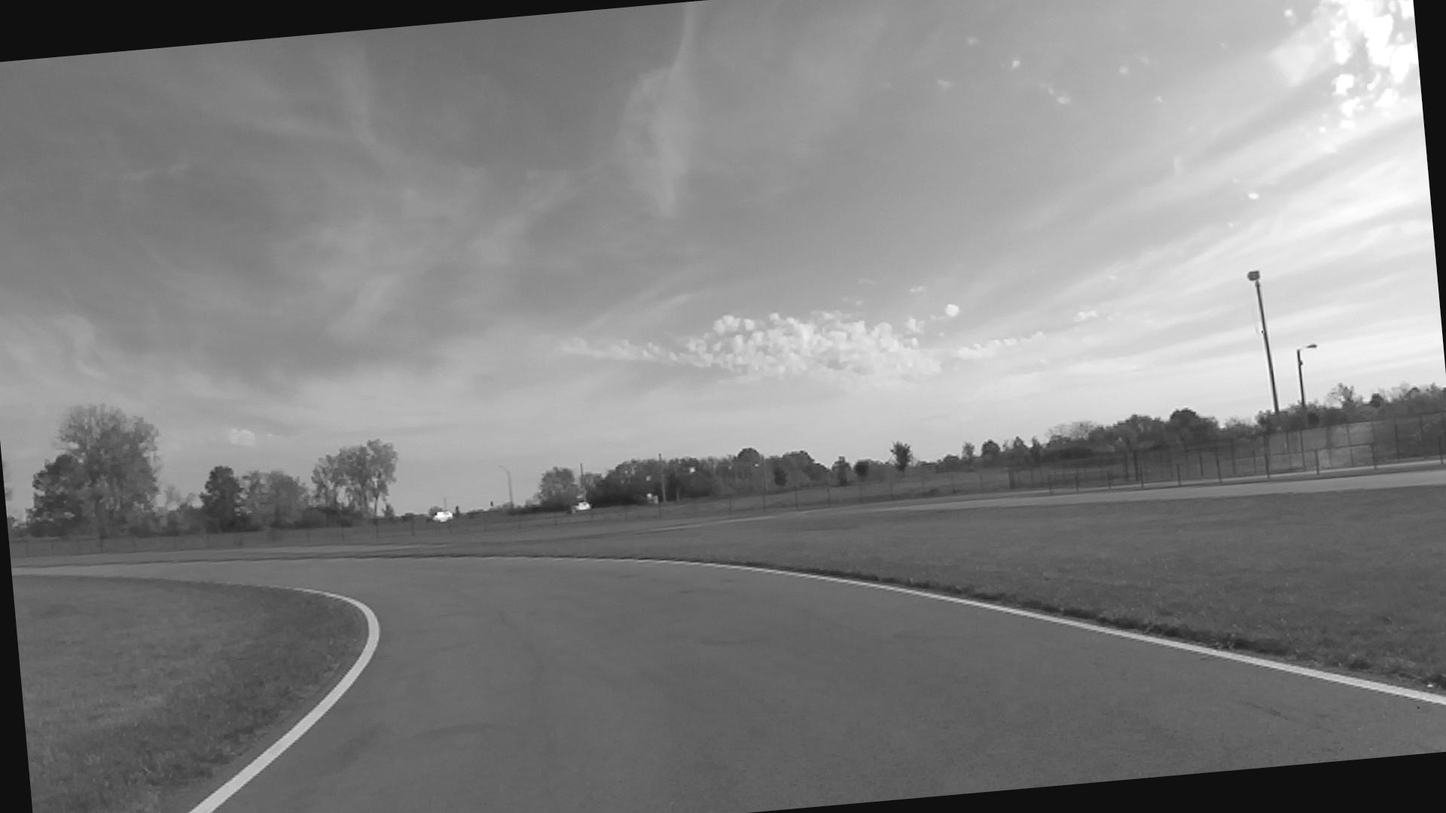white-line: (469, 556, 1446, 707), (185, 587, 381, 813)
